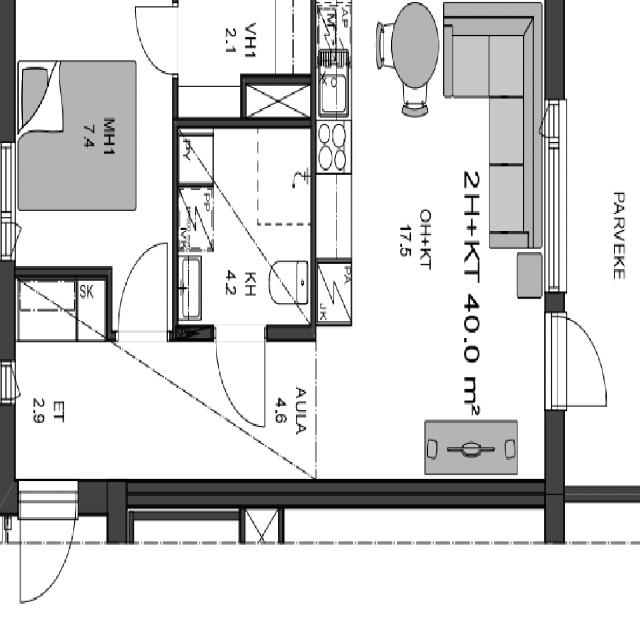door: (19, 480, 76, 609), (545, 312, 613, 402), (212, 328, 264, 429), (118, 241, 166, 338), (134, 7, 177, 74)
